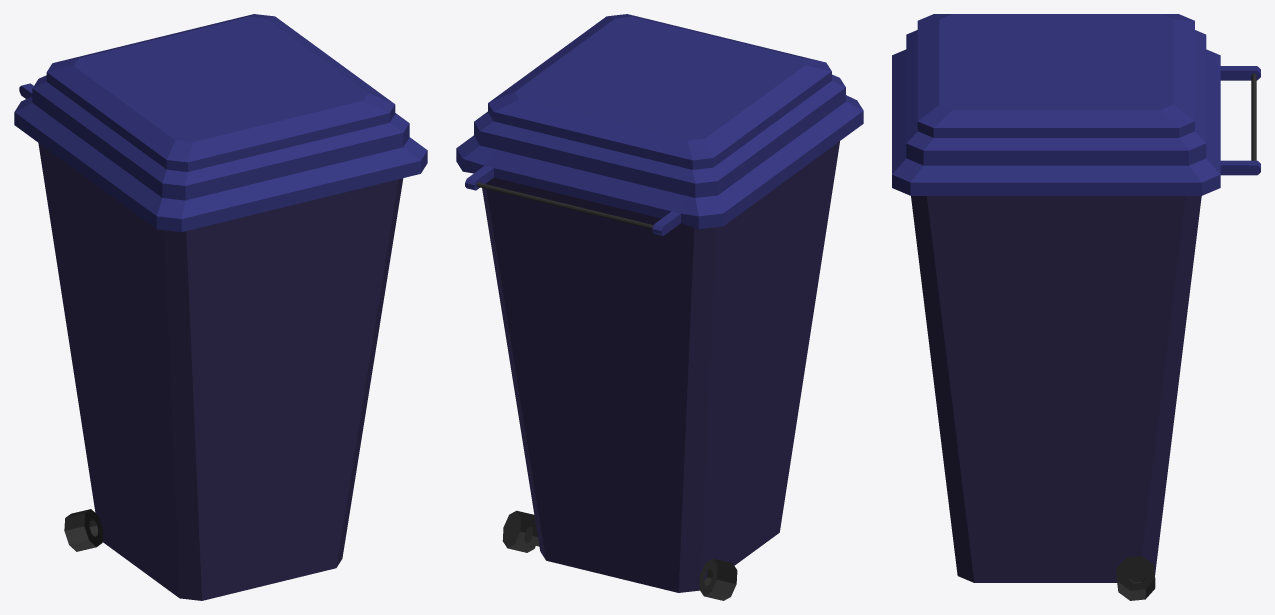
The model's file is blue_metallic_bin.fbx.
3 renders of one model, left to right at view 1: azimuth 30°, elevation 25°; view 2: azimuth 150°, elevation 25°; view 3: azimuth 270°, elevation 25°, orthographic. The views are drawn at different scales.
Visible parts, largest first — view 1: Cube.012; view 2: Cube.012; view 3: Cube.012.
Boxes of the visible parts, x1=… form: Cube.012: x1=14, y1=14, x2=427, y2=600; Cube.012: x1=456, y1=14, x2=863, y2=600; Cube.012: x1=892, y1=14, x2=1260, y2=600.
Bounding box in the file's own units: 204 × 341 × 236.
